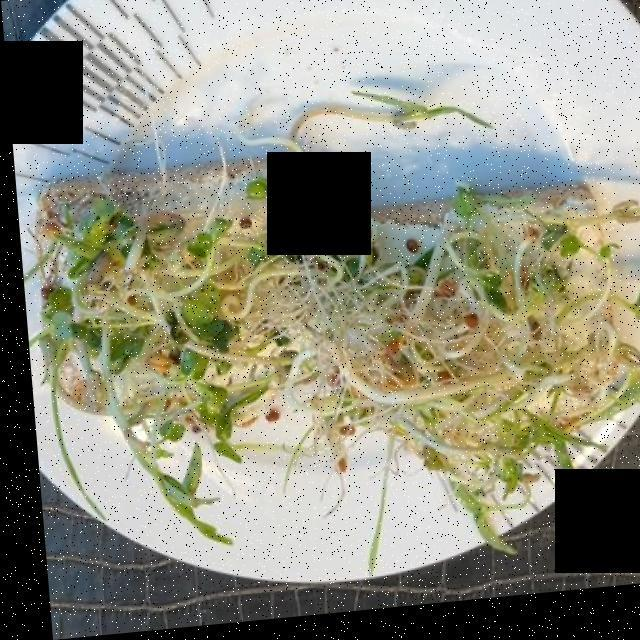bread: (42, 170, 596, 446)
cheese: (353, 216, 435, 288)
shoots: (41, 121, 640, 555)
